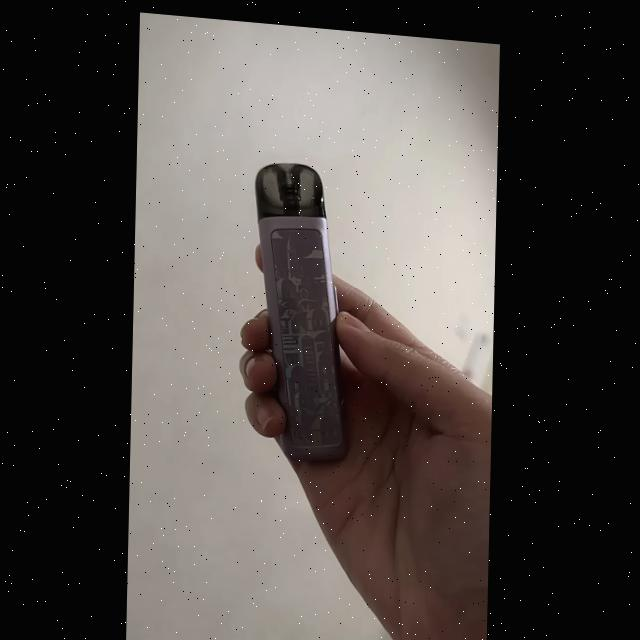vape: (249, 153, 355, 458)
